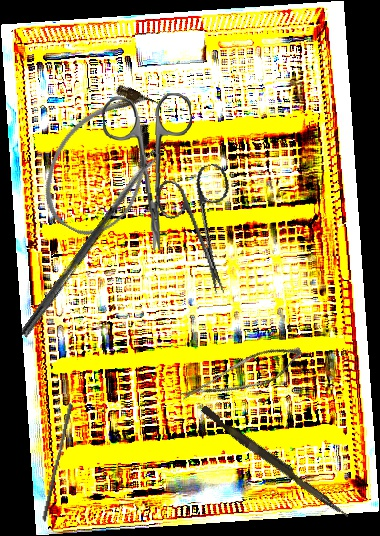Cannula: (25, 70, 184, 251)
Iris Scissors: (101, 92, 199, 255), (151, 161, 258, 304)
Micro Scissor: (178, 327, 307, 427)
Pusher: (197, 405, 354, 519), (41, 402, 74, 523)
Surgical Spoon: (19, 149, 161, 339)
